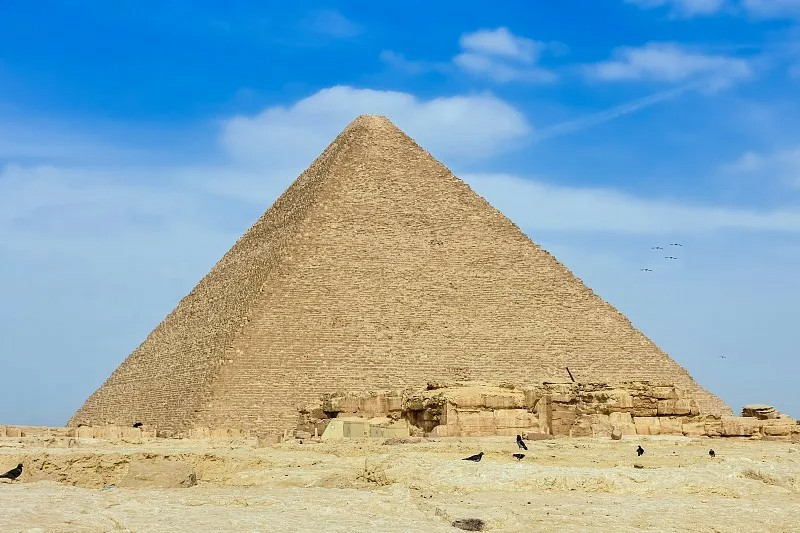Pyramid: (65, 113, 732, 424)
